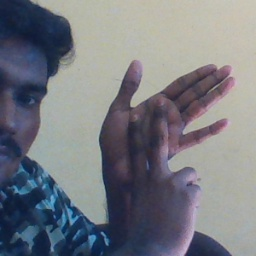N: (89, 57, 244, 221)
